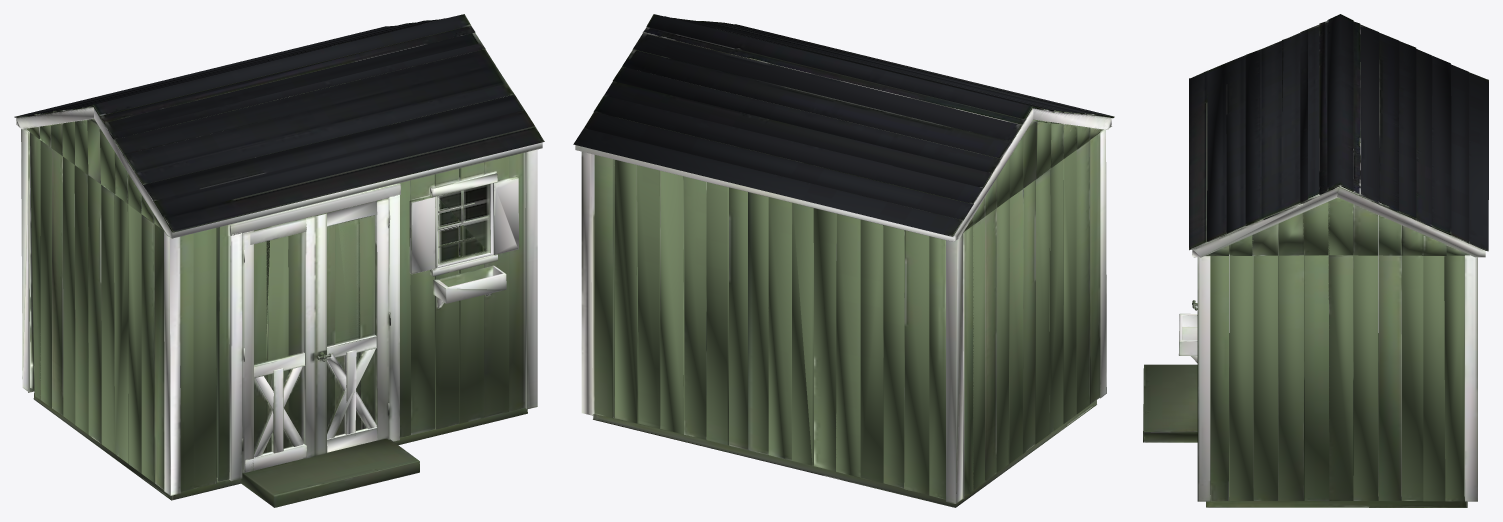
Rendered from shed_nj.glb.
The picture shows the model from 3 angles, left to right: view 1: azimuth 30°, elevation 25°; view 2: azimuth 150°, elevation 25°; view 3: azimuth 270°, elevation 25°; orthographic projection. The views are drawn at different scales.
Size of the model in its own units: 0.9556 by 0.851 by 0.8169.
1 material, 1 textured.
